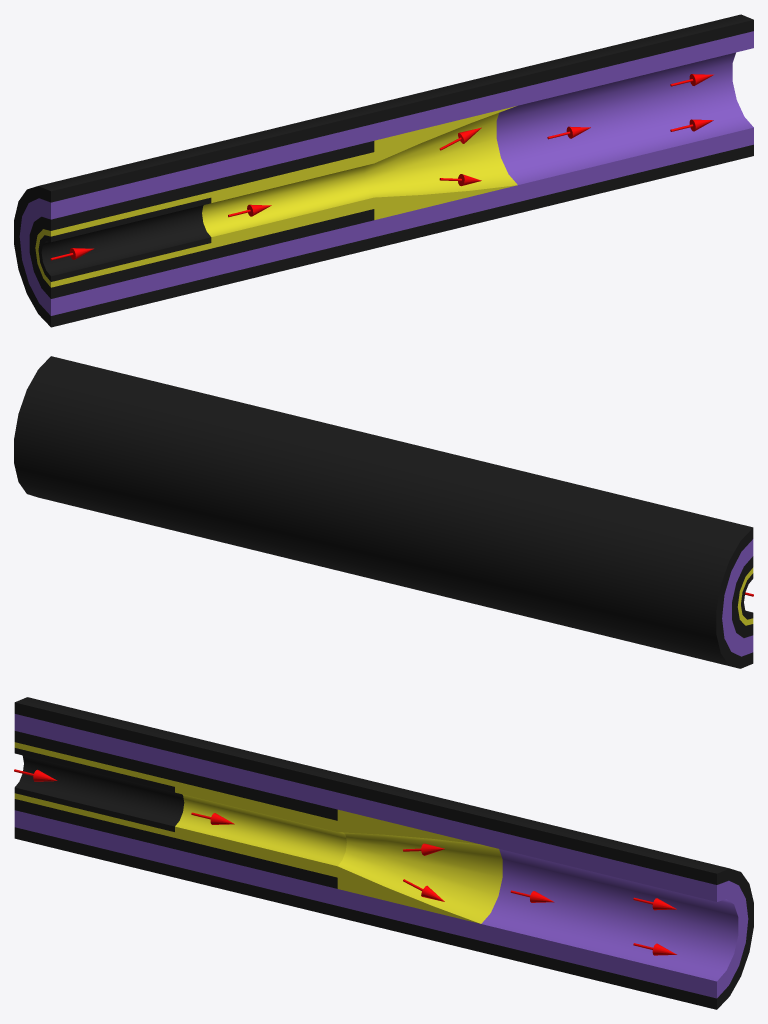
The model's file is annular_reactor_v4.OBJ.
3 renders of one model, top to bottom at view 1: azimuth 30°, elevation 25°; view 2: azimuth 150°, elevation 25°; view 3: azimuth 330°, elevation 25°, orthographic.
Visible parts, largest first — view 1: Solid; view 2: Solid; view 3: Solid.
Part boxes in pixels (box(x1,y1,x2,y2)): Solid: box(14, 14, 753, 327); Solid: box(14, 356, 753, 668); Solid: box(14, 697, 753, 1009).
Bounding box in the file's own units: 6.48 × 1.2 × 0.6409.
